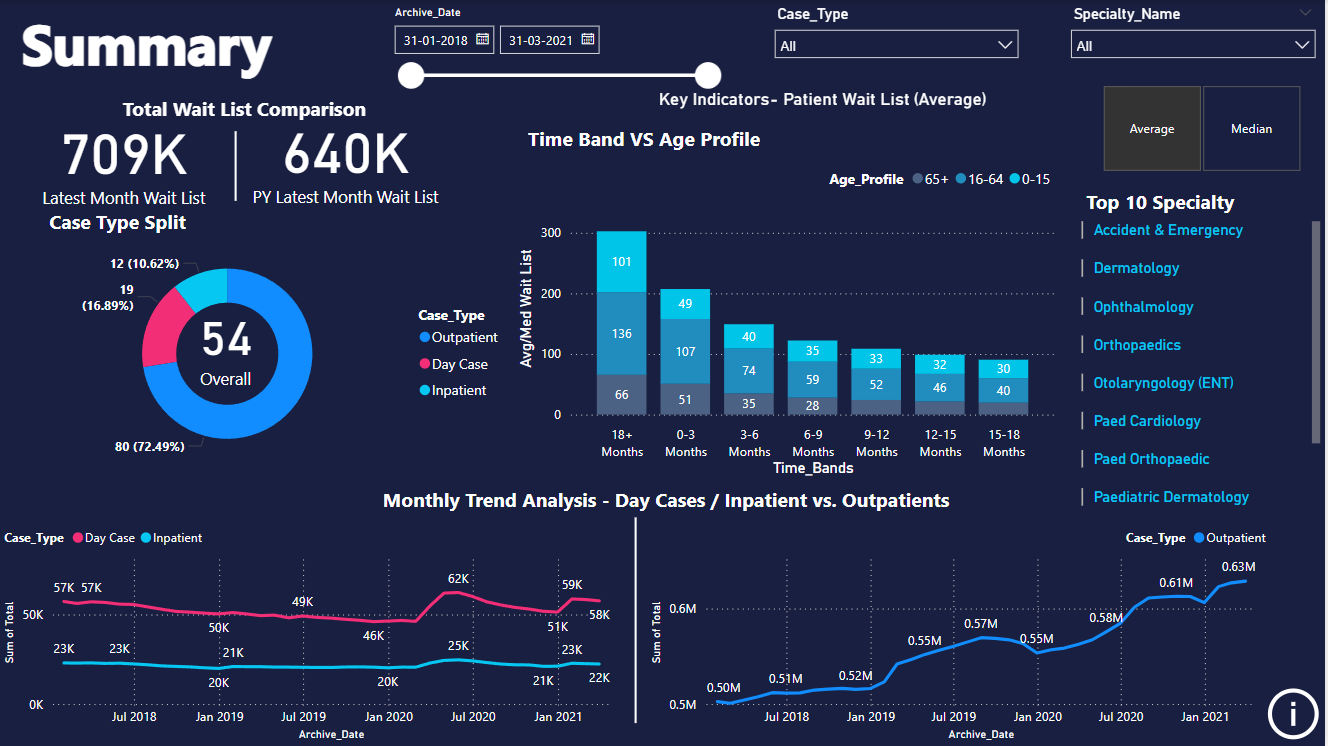

The page's visual inventory and layout, read from the dashboard file:
{"tool":"powerbi","page":{"name":"Summary","canvas":[1280,720],"ordinal":0},"visuals":[{"type":"card","fields":{"Values":["All Data.Latest Month Wait List"]},"box":[32,96,176,112],"z":0},{"type":"card","fields":{"Values":["All Data.PY Latest Month Wait List"]},"box":[238.6,95.7,191.4,112.9],"z":1000},{"type":"slicer","fields":{"Values":["Calculation Method.Calc Method"]},"box":[1040,75.7,240,95.7],"z":2000},{"type":"donutChart","fields":{"Category":["All Data.Case_Type"],"Y":["All Data.Avg/Medn Wait List"]},"box":[31.4,228.6,464.3,227.1],"z":3000},{"type":"columnChart","fields":{"Y":["All Data.Avg/Medn Wait List"],"Category":["All Data.Time_Bands"],"Series":["All Data.Age_Profile"]},"box":[495.7,151.4,528.6,312.9],"z":4000},{"type":"multiRowCard","fields":{"Values":["All Data.Specialty_Name"]},"box":[1040,208.6,240,291.4],"z":5000},{"type":"card","fields":{"Values":["All Data.No Data Left"]},"box":[154.3,558.6,300,124.3],"z":5500},{"type":"lineChart","fields":{"Category":["All Data.Archive_Date"],"Y":["Sum(All Data.Total)"],"Series":["All Data.Case_Type"]},"box":[0,500,608.6,220],"z":6000},{"type":"card","fields":{"Values":["All Data.No Data Right"]},"box":[792.9,537.1,300,124.3],"z":7500},{"type":"lineChart","fields":{"Category":["All Data.Archive_Date"],"Y":["Sum(All Data.Total)"],"Series":["All Data.Case_Type"]},"box":[624.3,500,608.6,220],"z":8000},{"type":"slicer","fields":{"Values":["All Data.Archive_Date"]},"box":[369.1,0,336.2,96.1],"z":10000},{"type":"slicer","fields":{"Values":["All Data.Case_Type"]},"box":[738.3,0,255.2,79.6],"z":11000},{"type":"slicer","fields":{"Values":["All Data.Specialty_Name"]},"box":[1024,0,256,80],"z":12000},{"type":"textbox","box":[16.5,0,336.2,96.1],"z":13000},{"type":"card","fields":{"Values":["All Data.Avg/Med Wait List"]},"box":[165.7,275.7,107.1,111.4],"z":14000},{"type":"shape","box":[218.6,127.1,20,67.1],"z":15000},{"type":"textbox","box":[84.3,87.1,310,44.3],"z":16000},{"type":"textbox","box":[1012.9,177.1,220,51.4],"z":17000},{"type":"shape","box":[604.3,500,20,198.6],"z":18000},{"type":"textbox","box":[505.7,115.7,395.7,45.7],"z":19000},{"type":"textbox","box":[42.9,197.1,442.9,45.7],"z":20000},{"type":"textbox","box":[165.7,464.3,957.1,45.7],"z":21000},{"type":"card","fields":{"Values":["All Data.Dynamic Title"]},"box":[550.1,76,489.8,39.8],"z":22000},{"type":"actionButton","box":[1218.6,657.1,61.4,62.9],"z":23000}]}

Visuals, with their boxes in screenshot pixels (x1, y1, x2, y2), scaled from the page's 1280x720 canvas onto the 1328x746 screenshot:
card - All Data.Latest Month Wait List: x1=33 y1=99 x2=216 y2=216
card - All Data.PY Latest Month Wait List: x1=248 y1=99 x2=446 y2=216
slicer - Calculation Method.Calc Method: x1=1079 y1=78 x2=1327 y2=178
donutChart - All Data.Case_Type x All Data.Avg/Medn Wait List: x1=33 y1=237 x2=514 y2=472
columnChart - All Data.Avg/Medn Wait List x All Data.Time_Bands: x1=514 y1=157 x2=1063 y2=481
multiRowCard - All Data.Specialty_Name: x1=1079 y1=216 x2=1327 y2=518
card - All Data.No Data Left: x1=160 y1=579 x2=471 y2=708
lineChart - All Data.Archive_Date x Sum(All Data.Total): x1=0 y1=518 x2=631 y2=745
card - All Data.No Data Right: x1=823 y1=556 x2=1134 y2=685
lineChart - All Data.Archive_Date x Sum(All Data.Total): x1=648 y1=518 x2=1279 y2=745
slicer - All Data.Archive_Date: x1=383 y1=0 x2=732 y2=100
slicer - All Data.Case_Type: x1=766 y1=0 x2=1031 y2=82
slicer - All Data.Specialty_Name: x1=1062 y1=0 x2=1327 y2=83
textbox: x1=17 y1=0 x2=366 y2=100
card - All Data.Avg/Med Wait List: x1=172 y1=286 x2=283 y2=401
shape: x1=227 y1=132 x2=248 y2=201
textbox: x1=87 y1=90 x2=409 y2=136
textbox: x1=1051 y1=183 x2=1279 y2=237
shape: x1=627 y1=518 x2=648 y2=724
textbox: x1=525 y1=120 x2=935 y2=167
textbox: x1=45 y1=204 x2=504 y2=252
textbox: x1=172 y1=481 x2=1165 y2=528
card - All Data.Dynamic Title: x1=571 y1=79 x2=1079 y2=120
actionButton: x1=1264 y1=681 x2=1327 y2=745
